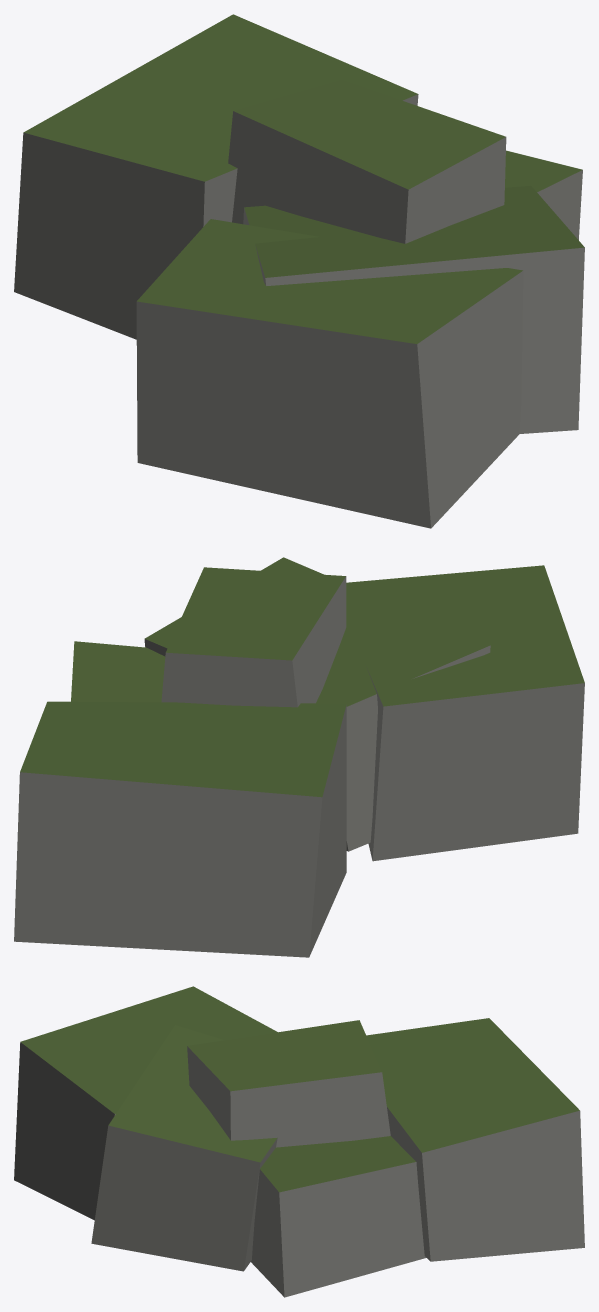
File: MasonryRubble.fbx
The picture shows the model from 3 angles, top to bottom: view 1: azimuth 30°, elevation 25°; view 2: azimuth 150°, elevation 25°; view 3: azimuth 270°, elevation 25°; orthographic projection. The views are drawn at different scales.
Visible parts, largest first — view 1: MasonryRubble; view 2: MasonryRubble; view 3: MasonryRubble.
Boxes of the visible parts, bbox=[...] form: MasonryRubble: bbox=[14, 14, 584, 528]; MasonryRubble: bbox=[14, 557, 584, 957]; MasonryRubble: bbox=[14, 986, 584, 1297].
Bounding box in the file's own units: 1.37 × 0.6456 × 1.83.
